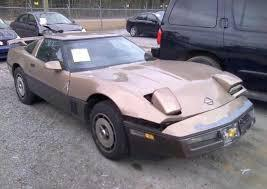bonnet-dent: (92, 66, 172, 89)
